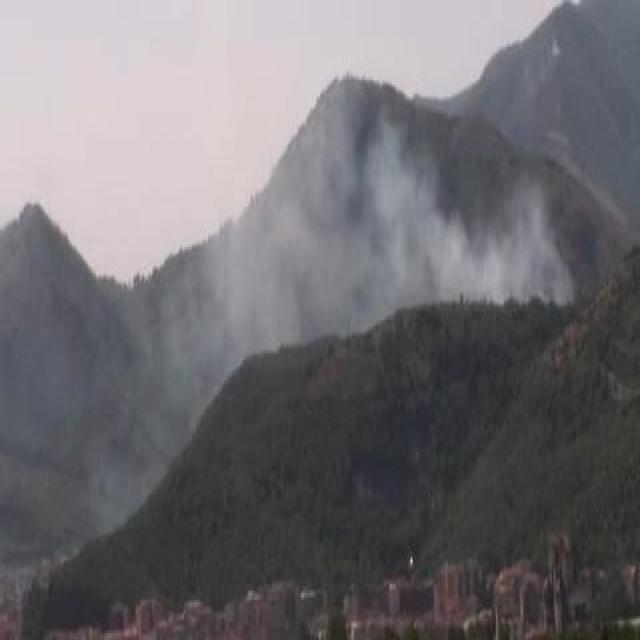Smoke: (288, 98, 565, 304)
